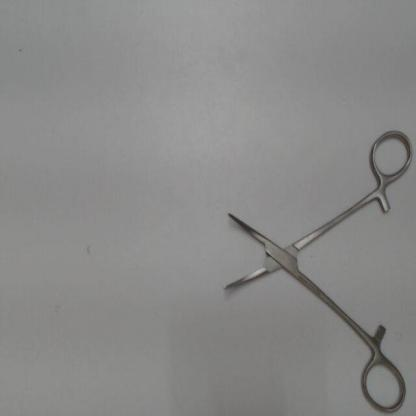Crile Artery Forceps: (210, 122, 414, 414)
